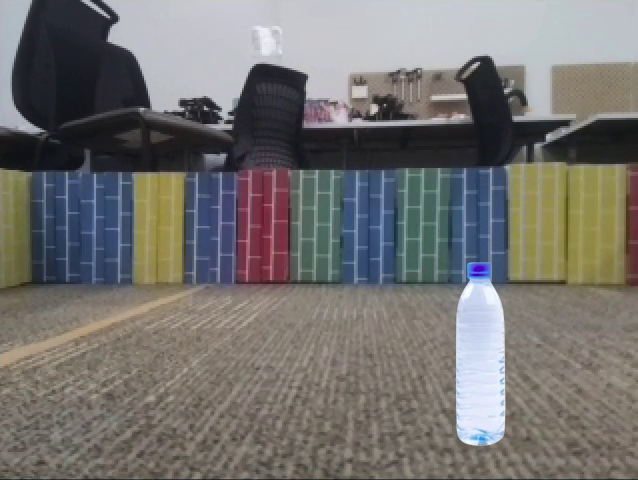bottle: (565, 294, 616, 478)
